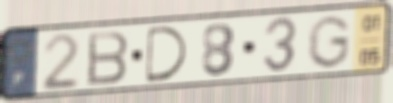2: (42, 31, 81, 93)
3: (259, 14, 299, 77)
8: (200, 22, 235, 77)
B: (85, 29, 131, 88)
D: (145, 24, 191, 85)
G: (304, 14, 353, 71)
